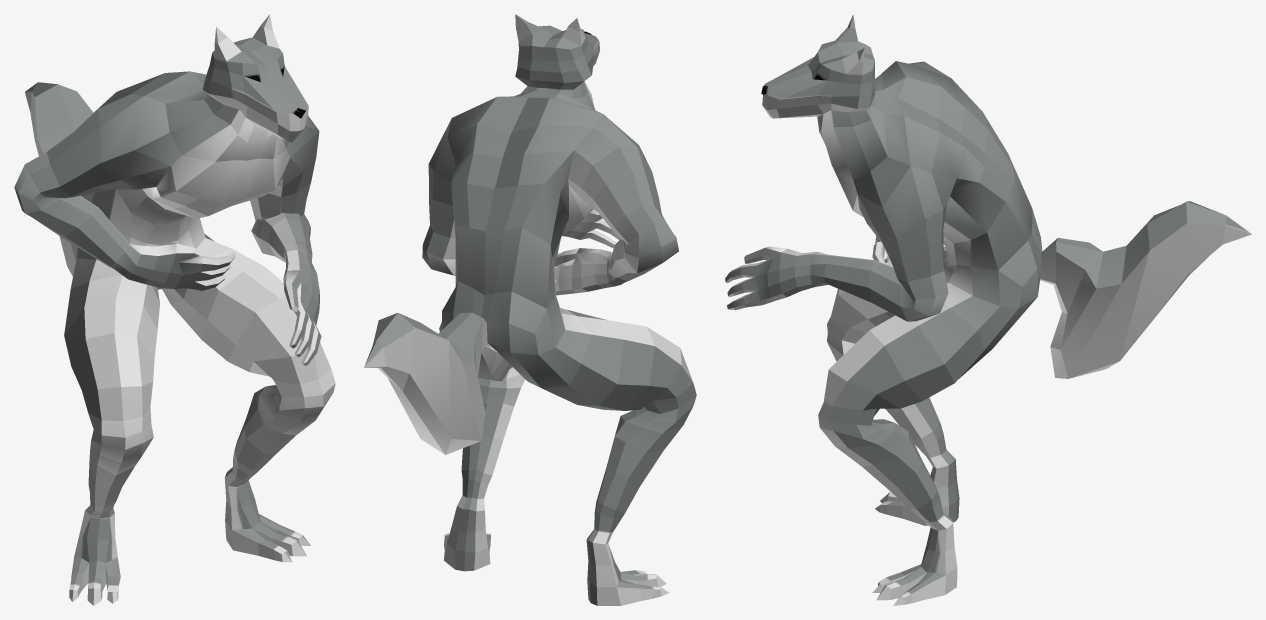
The model's file is WolfIdle_(84).obj.
3 renders of one model, left to right at view 1: azimuth 30°, elevation 25°; view 2: azimuth 150°, elevation 25°; view 3: azimuth 270°, elevation 25°, orthographic. The views are drawn at different scales.
Visible parts, largest first — view 1: Box001; view 2: Box001; view 3: Box001.
Part boxes in pixels (bbox=[...]): Box001: bbox=[14, 14, 335, 605]; Box001: bbox=[364, 14, 696, 605]; Box001: bbox=[725, 14, 1251, 605].
Size of the model in its own units: 67.25 by 131 by 116.
